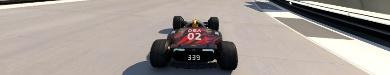Car: (149, 15, 238, 70)
Solid White and black: (250, 0, 389, 74)
